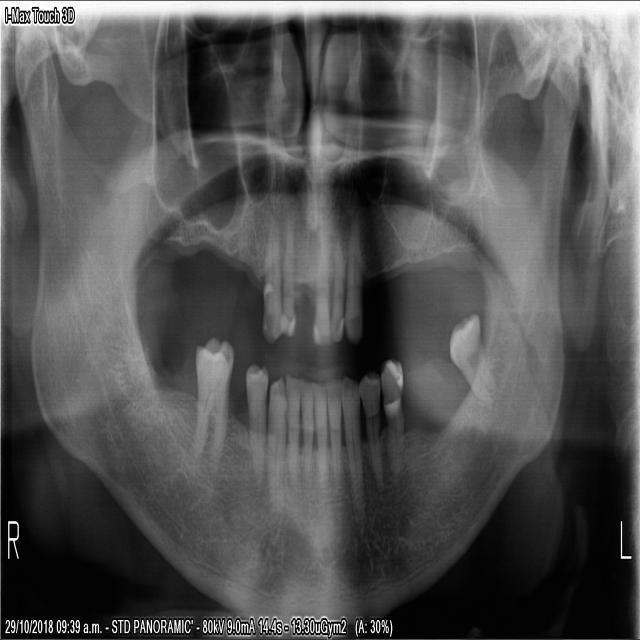LCD: (344, 374, 368, 524)
LCU: (345, 208, 364, 346)
LID: (327, 374, 342, 499), (313, 370, 326, 489)
LIU: (312, 204, 331, 349), (331, 212, 344, 351)
LMD: (443, 306, 504, 418)
LPMD: (380, 357, 407, 474), (360, 371, 385, 493)
RCD: (267, 369, 285, 510)
RID: (284, 369, 301, 501), (300, 369, 314, 494)
RIU: (260, 210, 280, 349), (280, 213, 296, 340)
RPMD: (189, 337, 234, 479), (243, 354, 269, 494)
